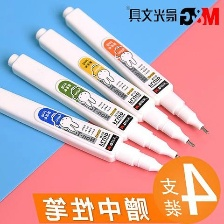correction_fluid: (59, 3, 213, 136), (6, 50, 187, 161), (34, 25, 197, 148), (0, 80, 174, 174)
